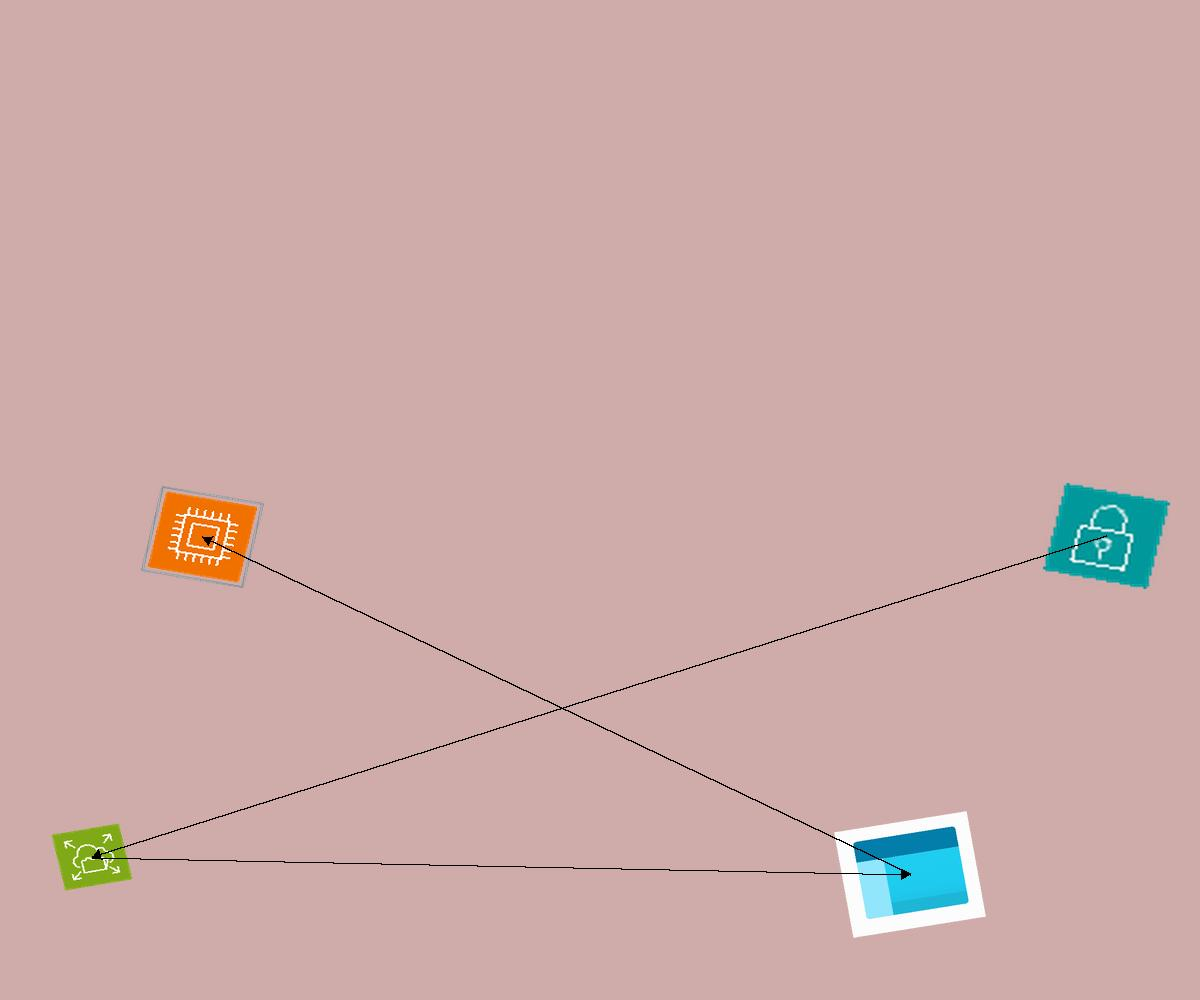AWS-Category_Compute: (140, 485, 265, 589)
AWS-EFS: (51, 823, 133, 891)
AWS-Private-subnet: (1043, 483, 1170, 589)
Azure_management-portal: (834, 811, 986, 938)
